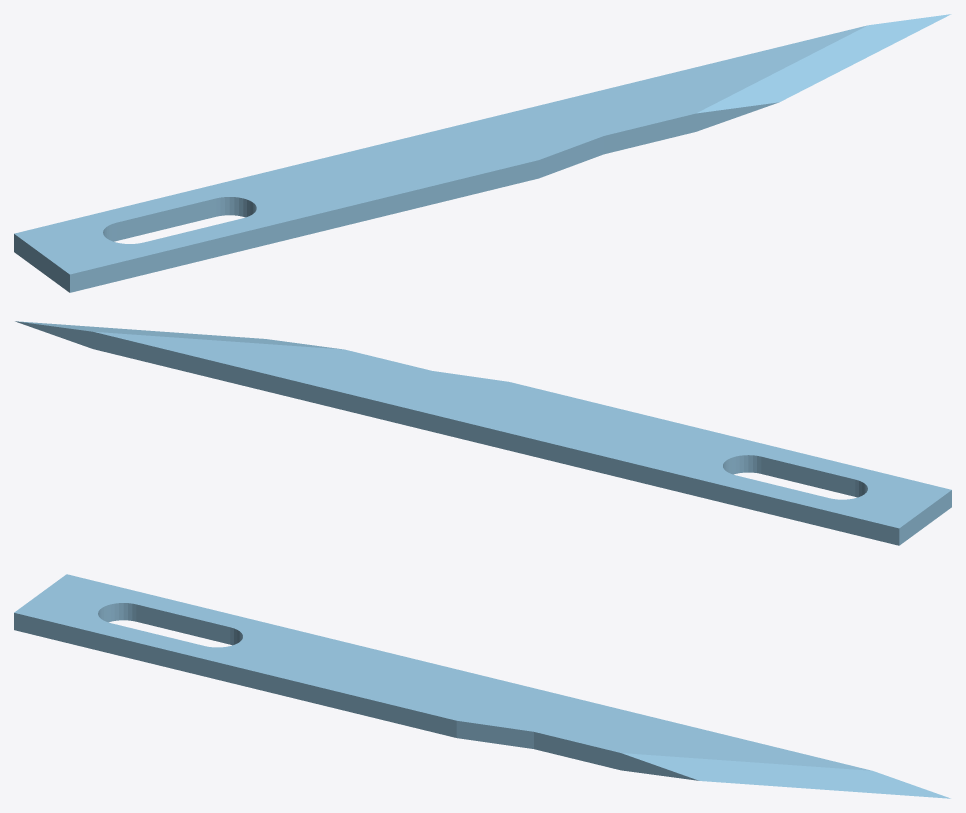
The model's file is blade_sm65.dae.
The picture shows the model from 3 angles, top to bottom: view 1: azimuth 30°, elevation 25°; view 2: azimuth 150°, elevation 25°; view 3: azimuth 330°, elevation 25°; orthographic projection. The views are drawn at different scales.
Parts seen in each view (by area): view 1: blade_sm65; view 2: blade_sm65; view 3: blade_sm65.
Boxes of the visible parts, x1=… form: blade_sm65: x1=14, y1=14, x2=951, y2=292; blade_sm65: x1=15, y1=321, x2=951, y2=545; blade_sm65: x1=14, y1=574, x2=950, y2=798.
Bounding box in the file's own units: 0.032 × 0.0033 × 0.0006.
